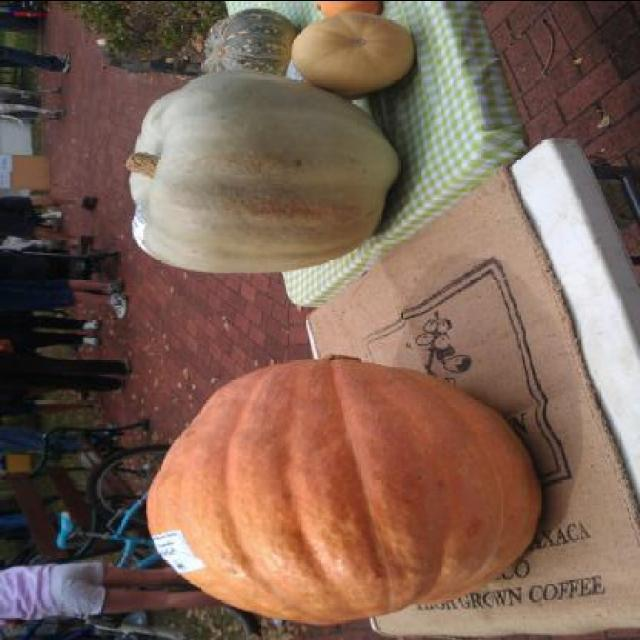Pumpkin: (142, 352, 540, 624), (114, 70, 410, 274), (284, 14, 416, 92), (198, 5, 296, 81), (312, 2, 390, 18)
